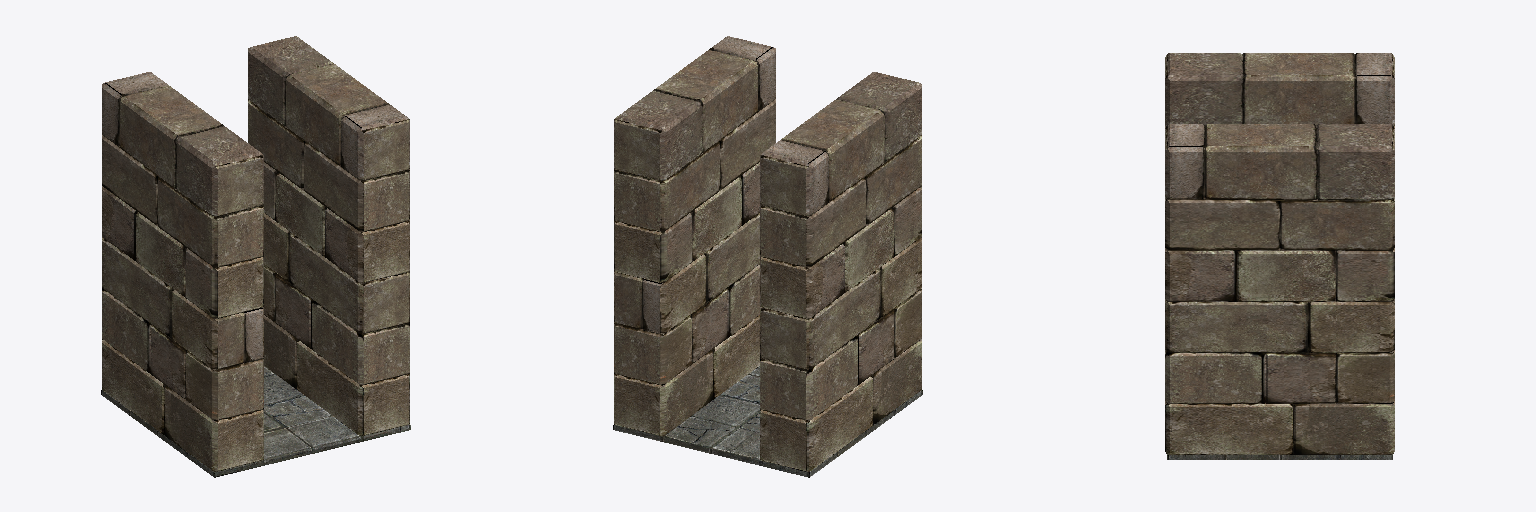
The picture shows the model from 3 angles: view 1: azimuth 30°, elevation 25°; view 2: azimuth 150°, elevation 25°; view 3: azimuth 270°, elevation 25°; orthographic projection.
Parts seen in each view (by area): view 1: Box3456, Box3455, Box026; view 2: Box3456, Box3455, Box026; view 3: Box3455, Box3456, Box026.
Part boxes in pixels (x1,y1,x2,y2): Box3456: (102,72,263,471); Box3455: (248,36,409,435); Box026: (101,366,410,477); Box3456: (760,72,921,471); Box3455: (614,36,775,435); Box026: (613,366,922,477); Box3455: (1165,124,1394,454); Box3456: (1165,53,1394,127); Box026: (1167,454,1392,459).
Size of the model in its own units: 2.04 by 3.07 by 2.04.
2 materials, 2 textured.